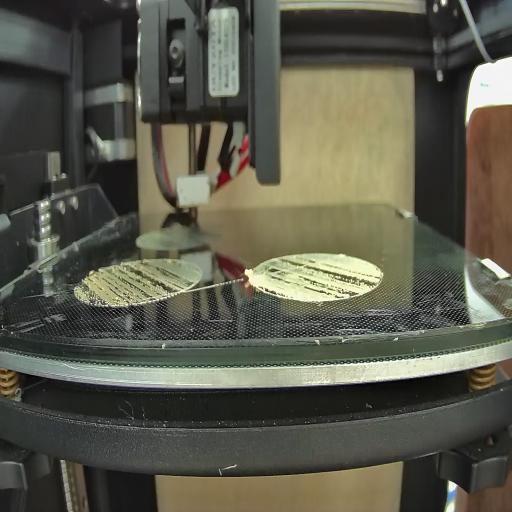under_extrusion: (77, 260, 194, 306), (257, 256, 380, 298)
